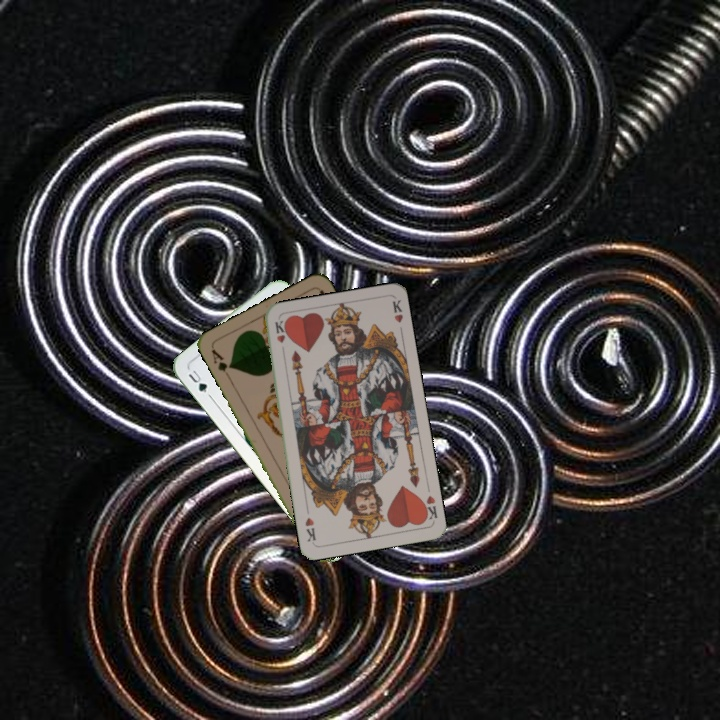GA: (207, 345, 234, 381)
GU: (184, 366, 214, 400)
HK: (417, 491, 440, 524), (271, 317, 288, 358)
